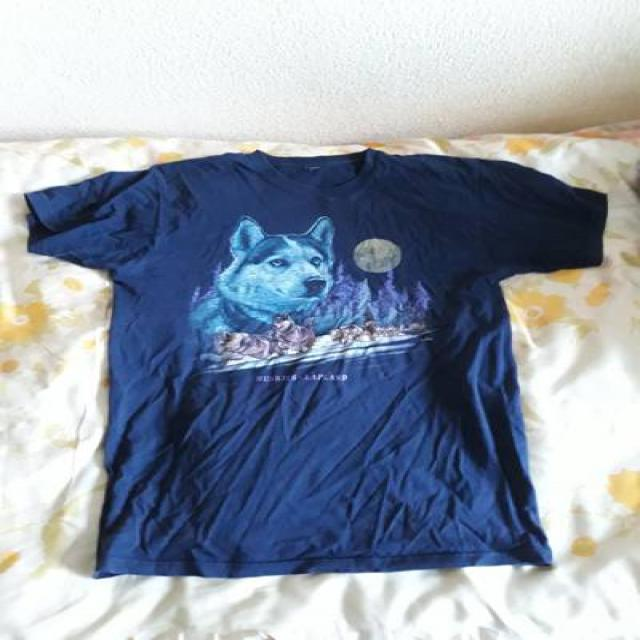Clothes -Biodegradable-: (23, 146, 604, 584)
